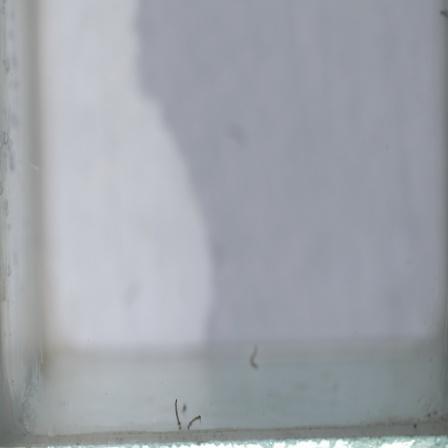Jentik-Nyamuk: (171, 393, 206, 430)
